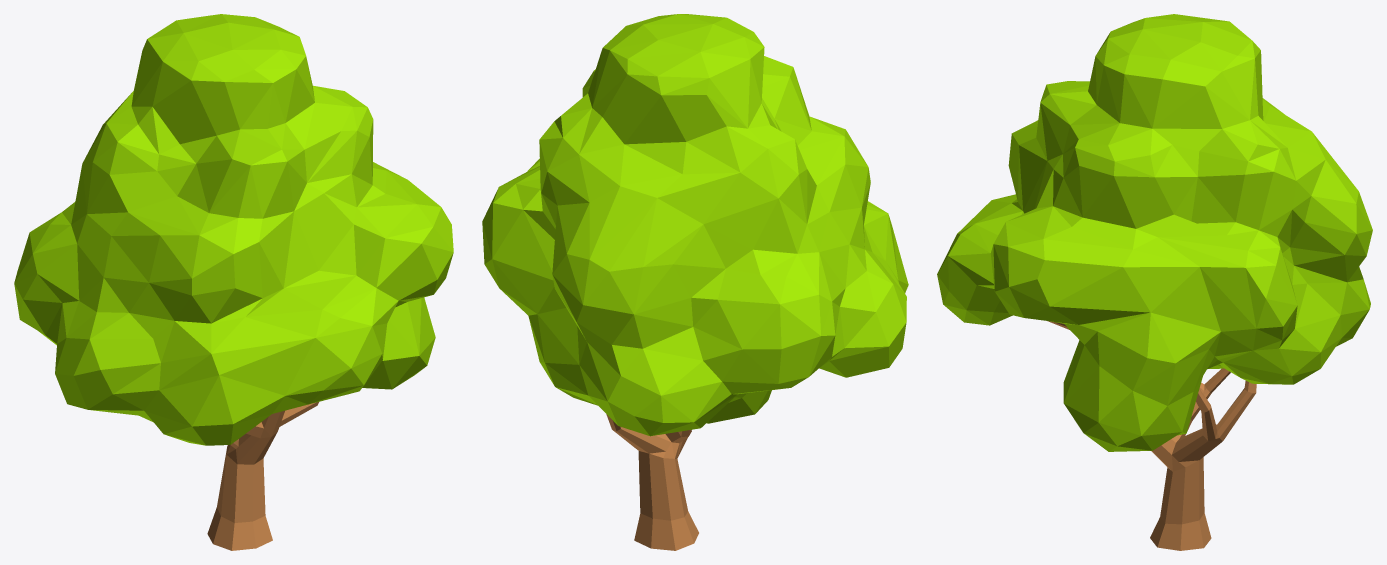
The model's file is Tree_2.fbx.
3 views of the same model, side by side, from view 1: azimuth 30°, elevation 25°; view 2: azimuth 150°, elevation 25°; view 3: azimuth 270°, elevation 25° (orthographic). The views are drawn at different scales.
Parts seen in each view (by area): view 1: tree_2; view 2: tree_2; view 3: tree_2.
Part boxes in pixels (<box>): tree_2: <box>14,14,453,550</box>; tree_2: <box>482,14,908,550</box>; tree_2: <box>937,14,1372,550</box>.
Size of the model in its own units: 1287 by 1717 by 1367.
